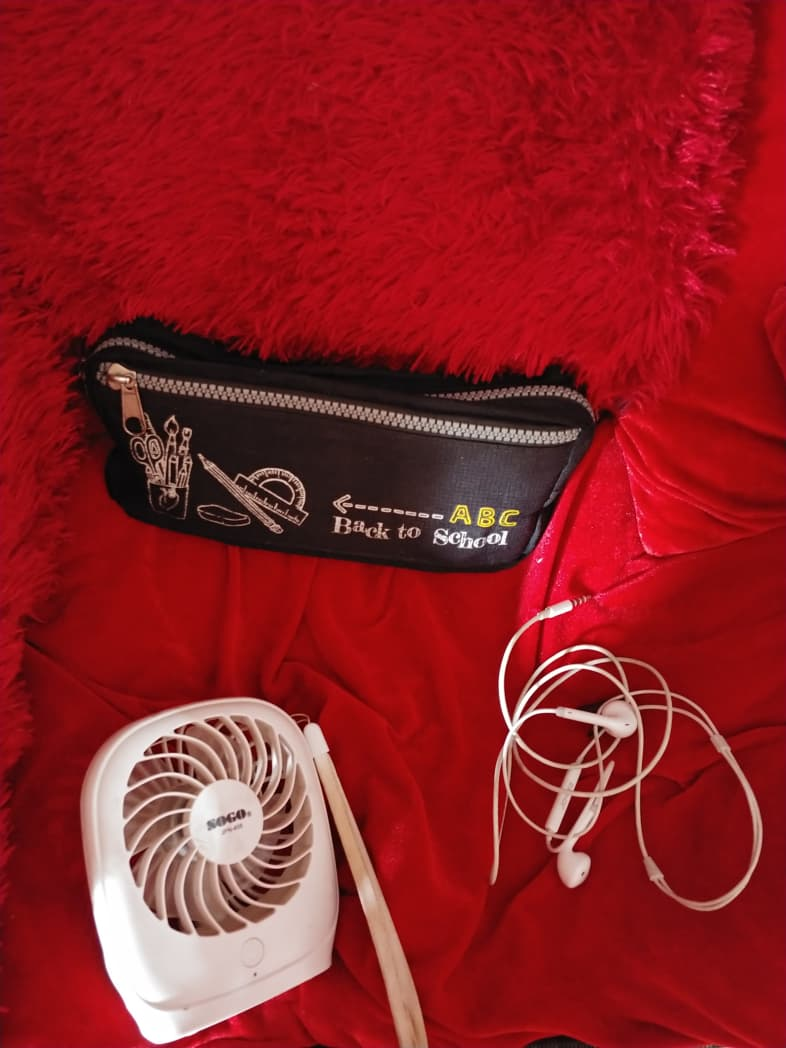Earphones: (468, 582, 786, 936)
Geometry box: (56, 278, 611, 590)
SOGO table fan: (42, 639, 433, 1043)
